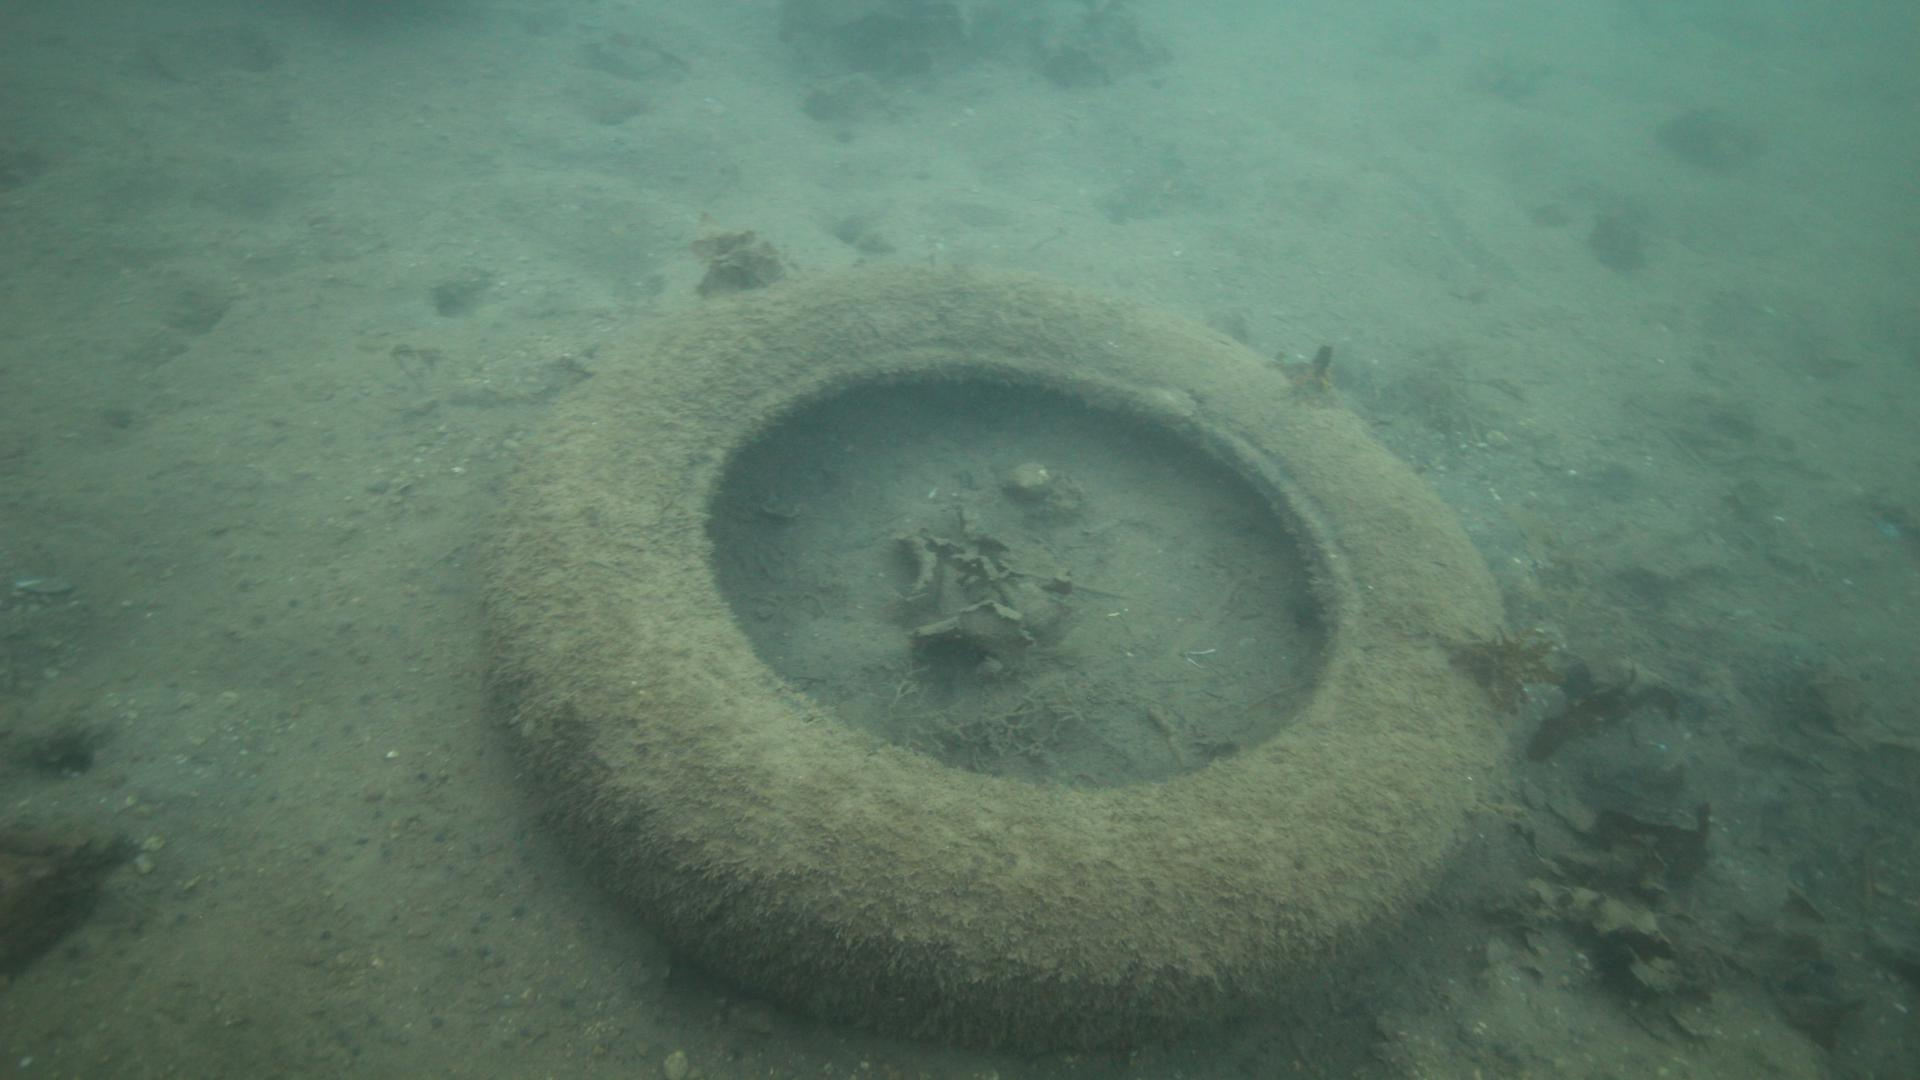tire: (485, 262, 1516, 1065)
